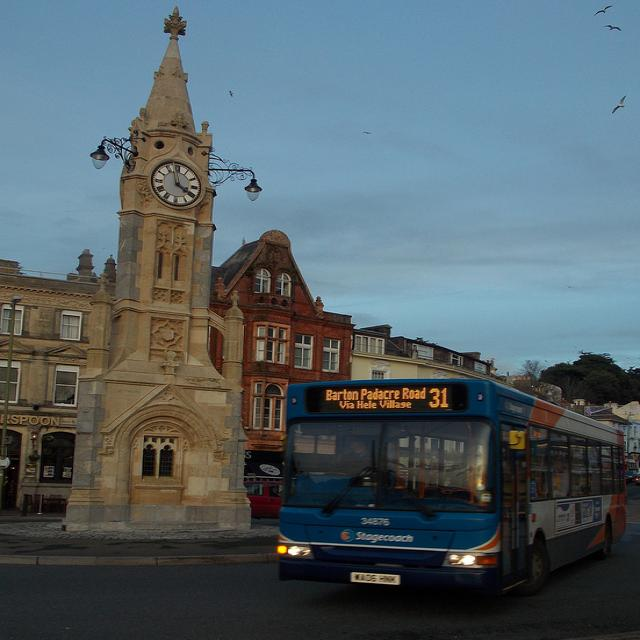Vehicle: (260, 374, 624, 621), (243, 480, 282, 518), (626, 470, 638, 484)
